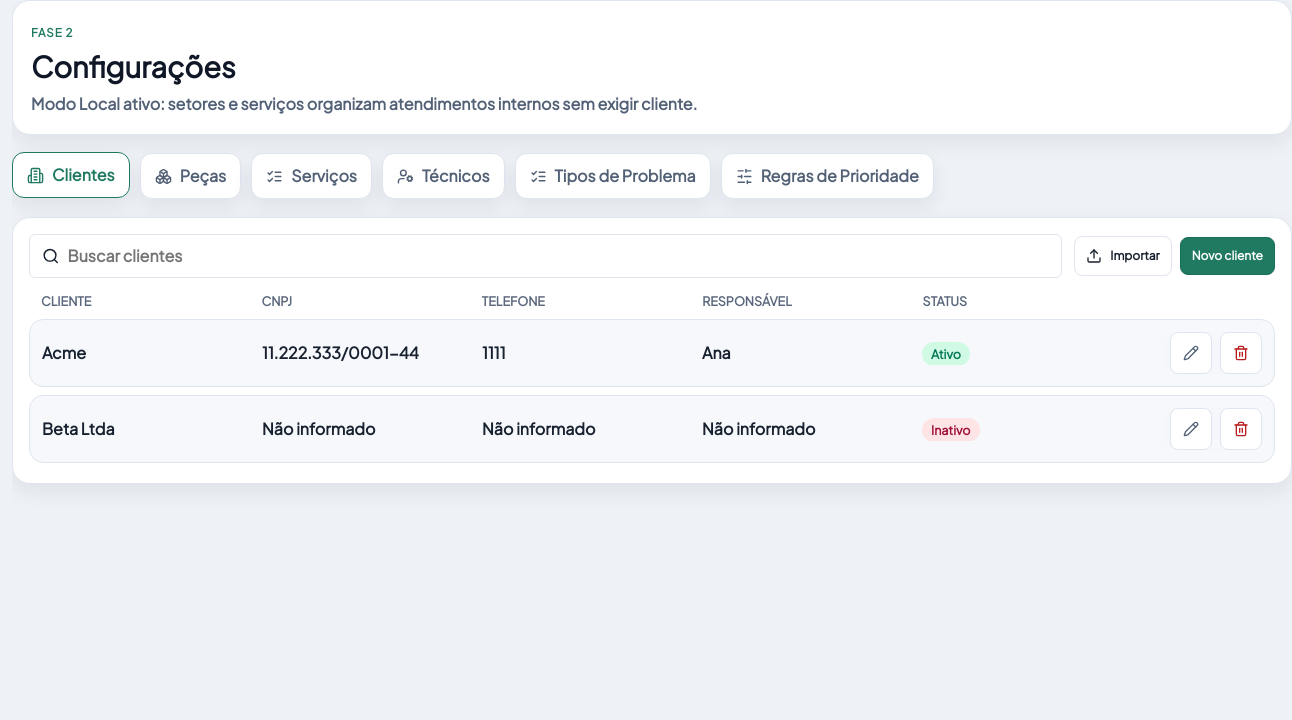
SettingsView - listagem e navegacao › busca filtra localmente e limpa ao trocar de aba
This screenshot has width=1292, height=720.
expect the text "Acme" is shown: met, box [42,342,86,363]
Type "beta" into the field labelled "Buscar clientes" at (558, 256), box [68,235,1049,277]
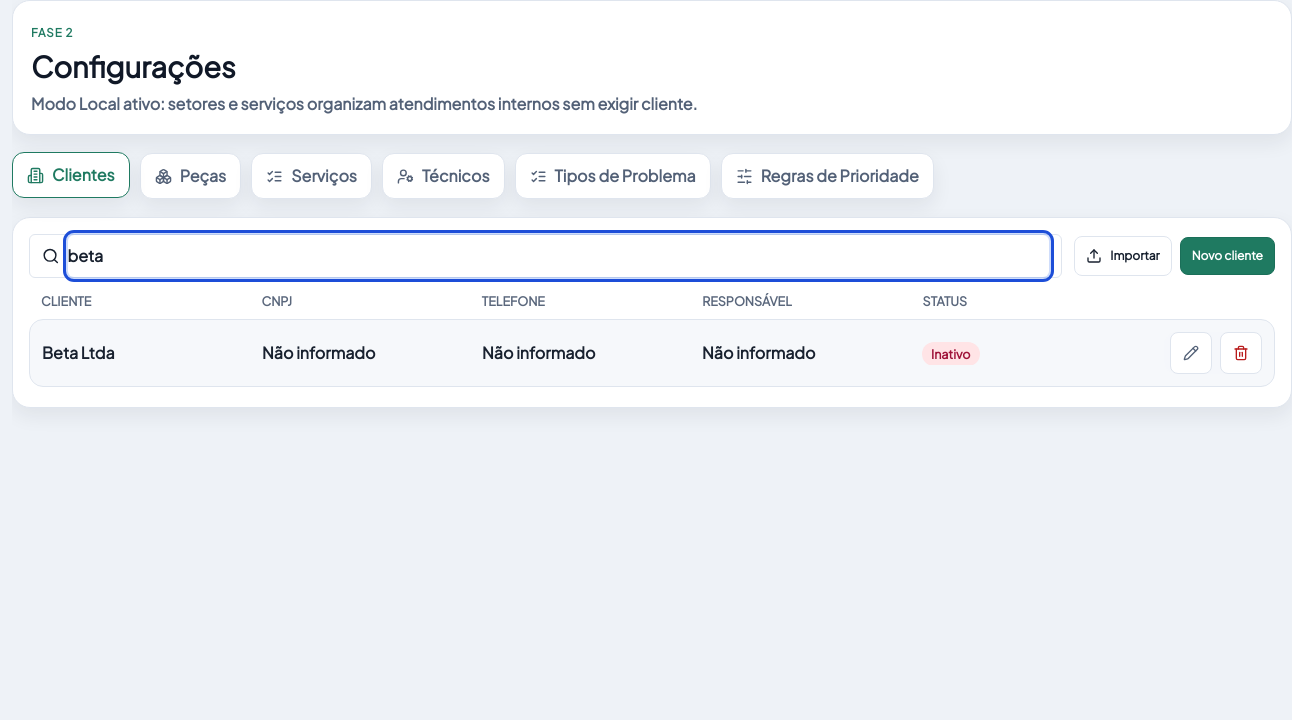
expect the text "Beta Ltda" is shown: met, box [42,342,115,363]
expect the text "Acme" is gone: met
Replace the text in the field named "Buscar clientes" with "zzzz" at (558, 256), box [68,235,1049,277]
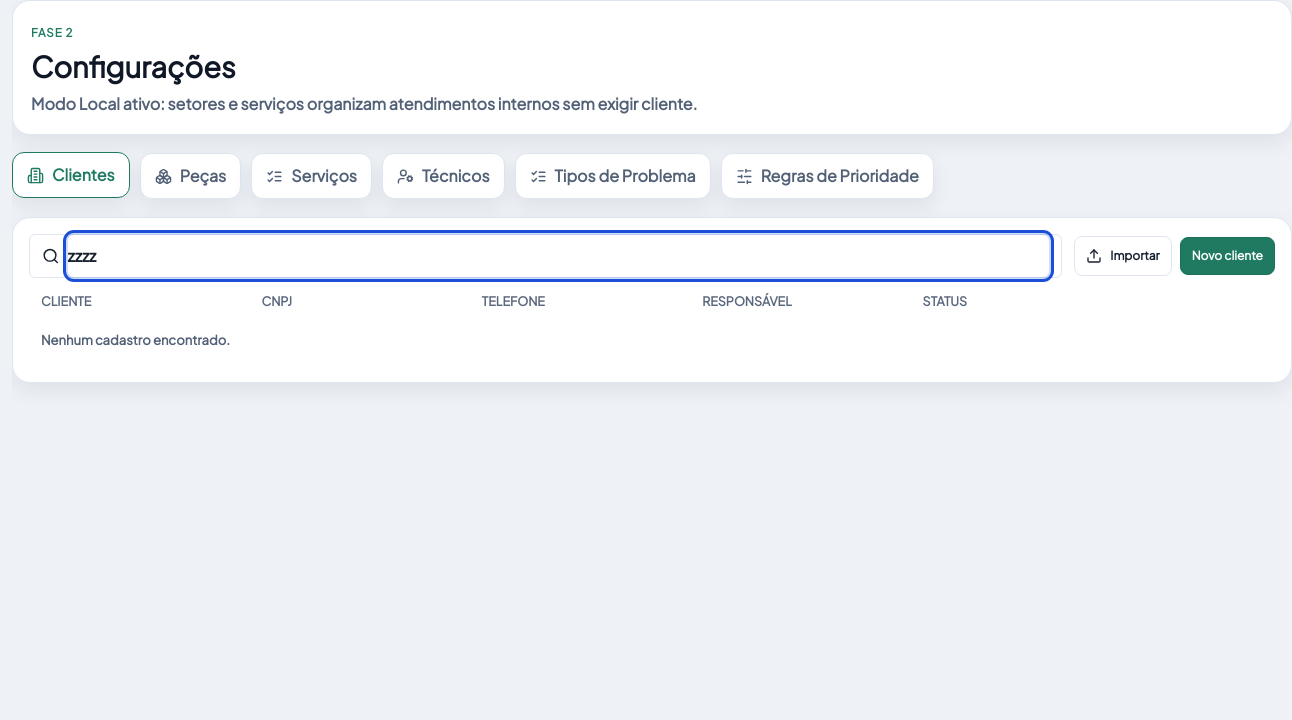
expect the text "Nenhum cadastro encontrado." is shown: met, box [41,332,230,348]
Click the button "Serviços" at (312, 176), box [251,153,372,199]
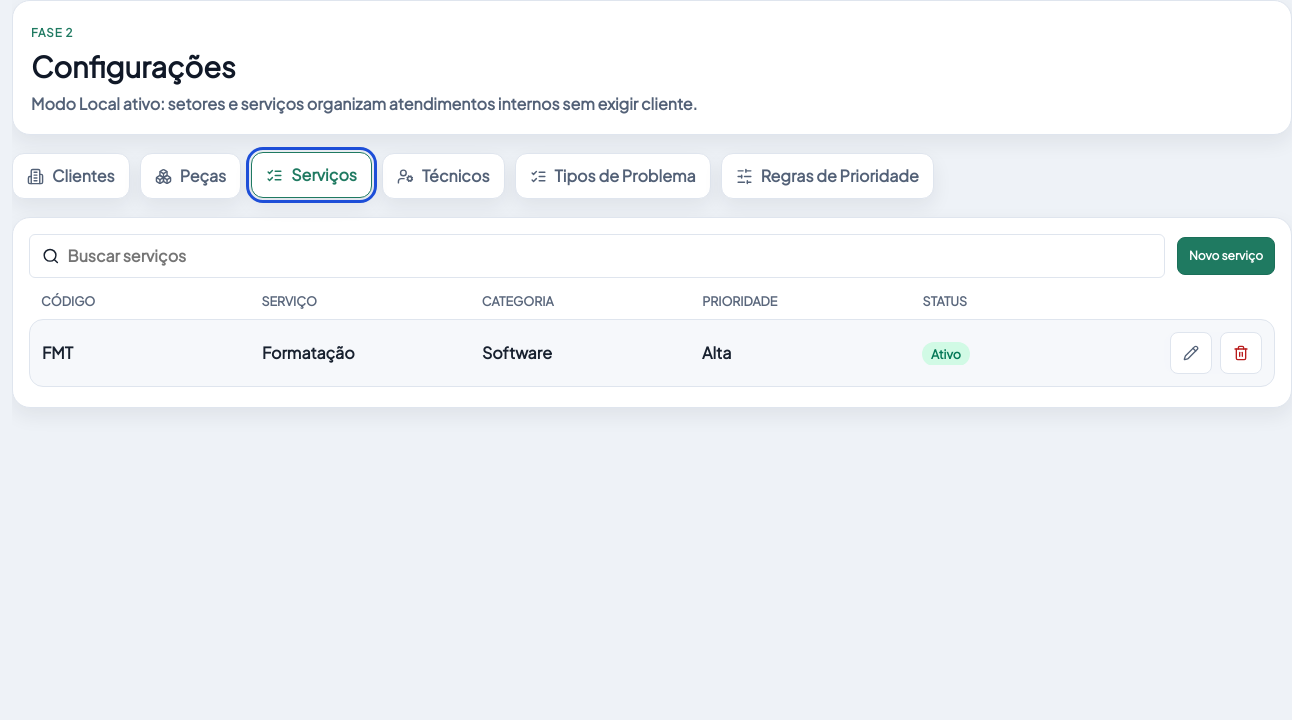
expect the text "Formatação" is shown: met, box [262,342,355,363]
